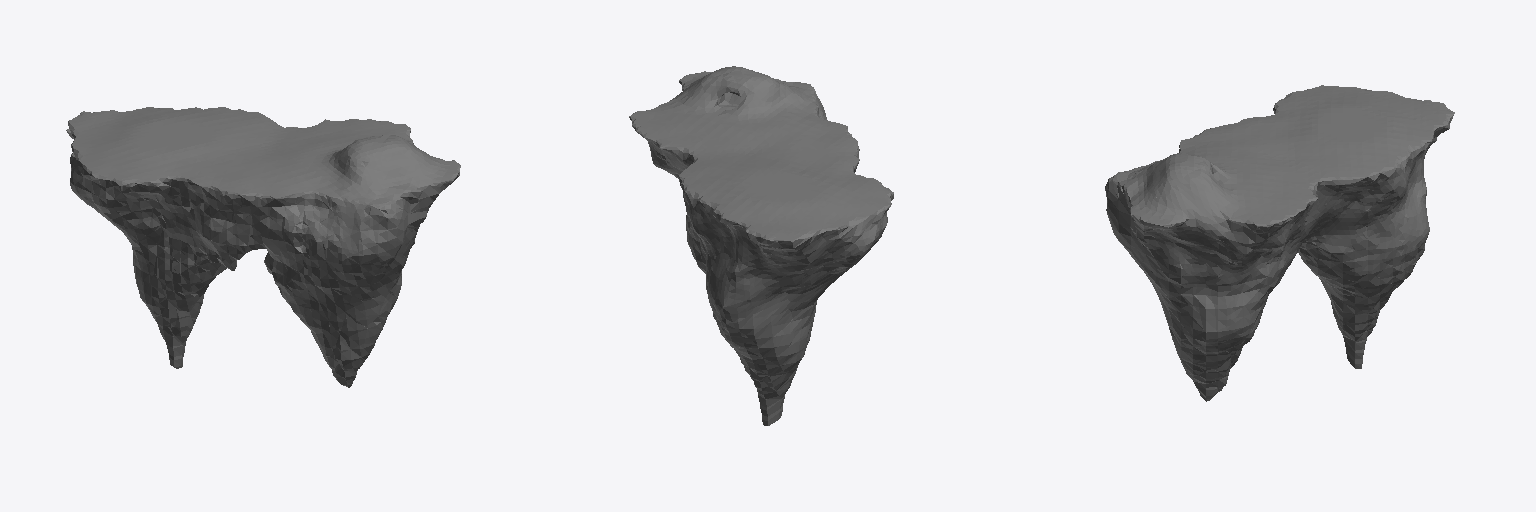
Rendered from IslandTunnelEntrance.obj.
The picture shows the model from 3 angles: view 1: azimuth 30°, elevation 25°; view 2: azimuth 150°, elevation 25°; view 3: azimuth 270°, elevation 25°; orthographic projection.
Visible parts, largest first — view 1: Mesh; view 2: Mesh; view 3: Mesh.
Part boxes in pixels (x1,y1,x2,y2): Mesh: (66,107,460,387); Mesh: (629,66,893,425); Mesh: (1105,85,1454,401).
Bounding box in the file's own units: 26.73 × 23.11 × 28.09.